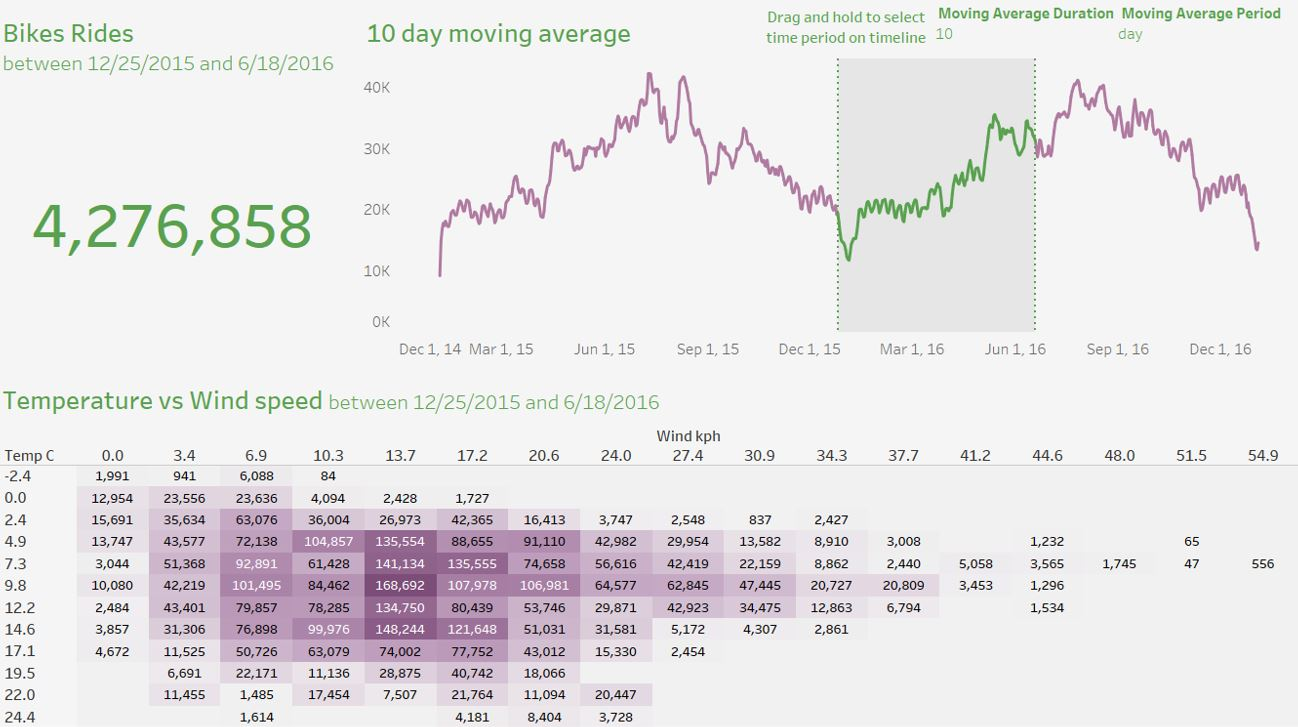

The dashboard page shown, as its layout file describes it:
{"tool":"tableau","page":{"name":"Dashboard 1","canvas":[1366,768],"ordinal":0},"visuals":[{"type":"worksheet","title":"TotalRides","mark":"Automatic","box":[8,8,373,376]},{"type":"worksheet","title":"MovingAverage","mark":"Automatic","rows":["Calculation1"],"cols":["Calculation_1088182307819208704"],"box":[381,8,977,376]},{"type":"parameter","param":"[Parameters].[Parameter 2]","box":[974,8,190,48]},{"type":"parameter","param":"[Parameters].[Parameter 1]","box":[1161,8,175,48]},{"type":"text","box":[795,9,179,50]},{"type":"worksheet","title":"Heatmap","mark":"Square","rows":["temp real C (bin)"],"cols":["Wind Speed Kph (bin)"],"box":[8,384,1350,376]}]}

Visuals, with their boxes in screenshot pixels (x1, y1, x2, y2), scaled from the page's 1366x768 canvas onto the 1298x727 screenshot:
"TotalRides" worksheet: box=[8, 8, 362, 364]
"MovingAverage" worksheet: box=[362, 8, 1290, 364]
parameter: box=[926, 8, 1106, 53]
parameter: box=[1103, 8, 1269, 53]
text: box=[755, 9, 926, 56]
"Heatmap" worksheet (Square marks): box=[8, 364, 1290, 719]
